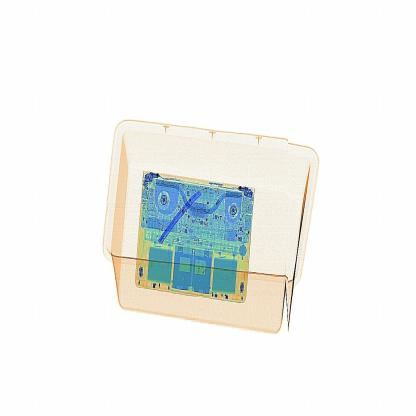pliers: (151, 191, 210, 244)
